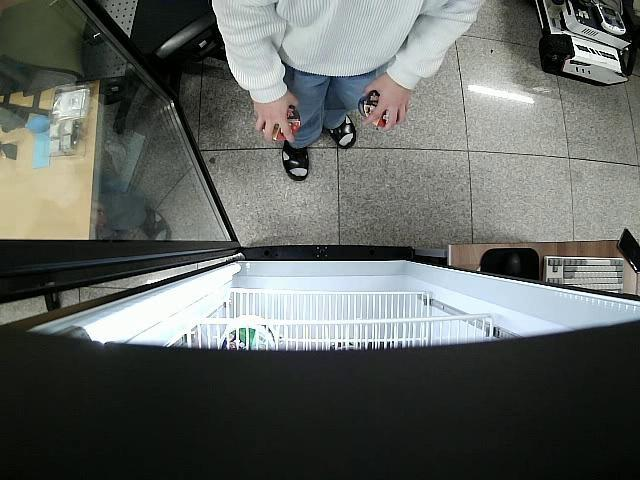08_buldak_S: (358, 90, 399, 126), (262, 106, 300, 143)
